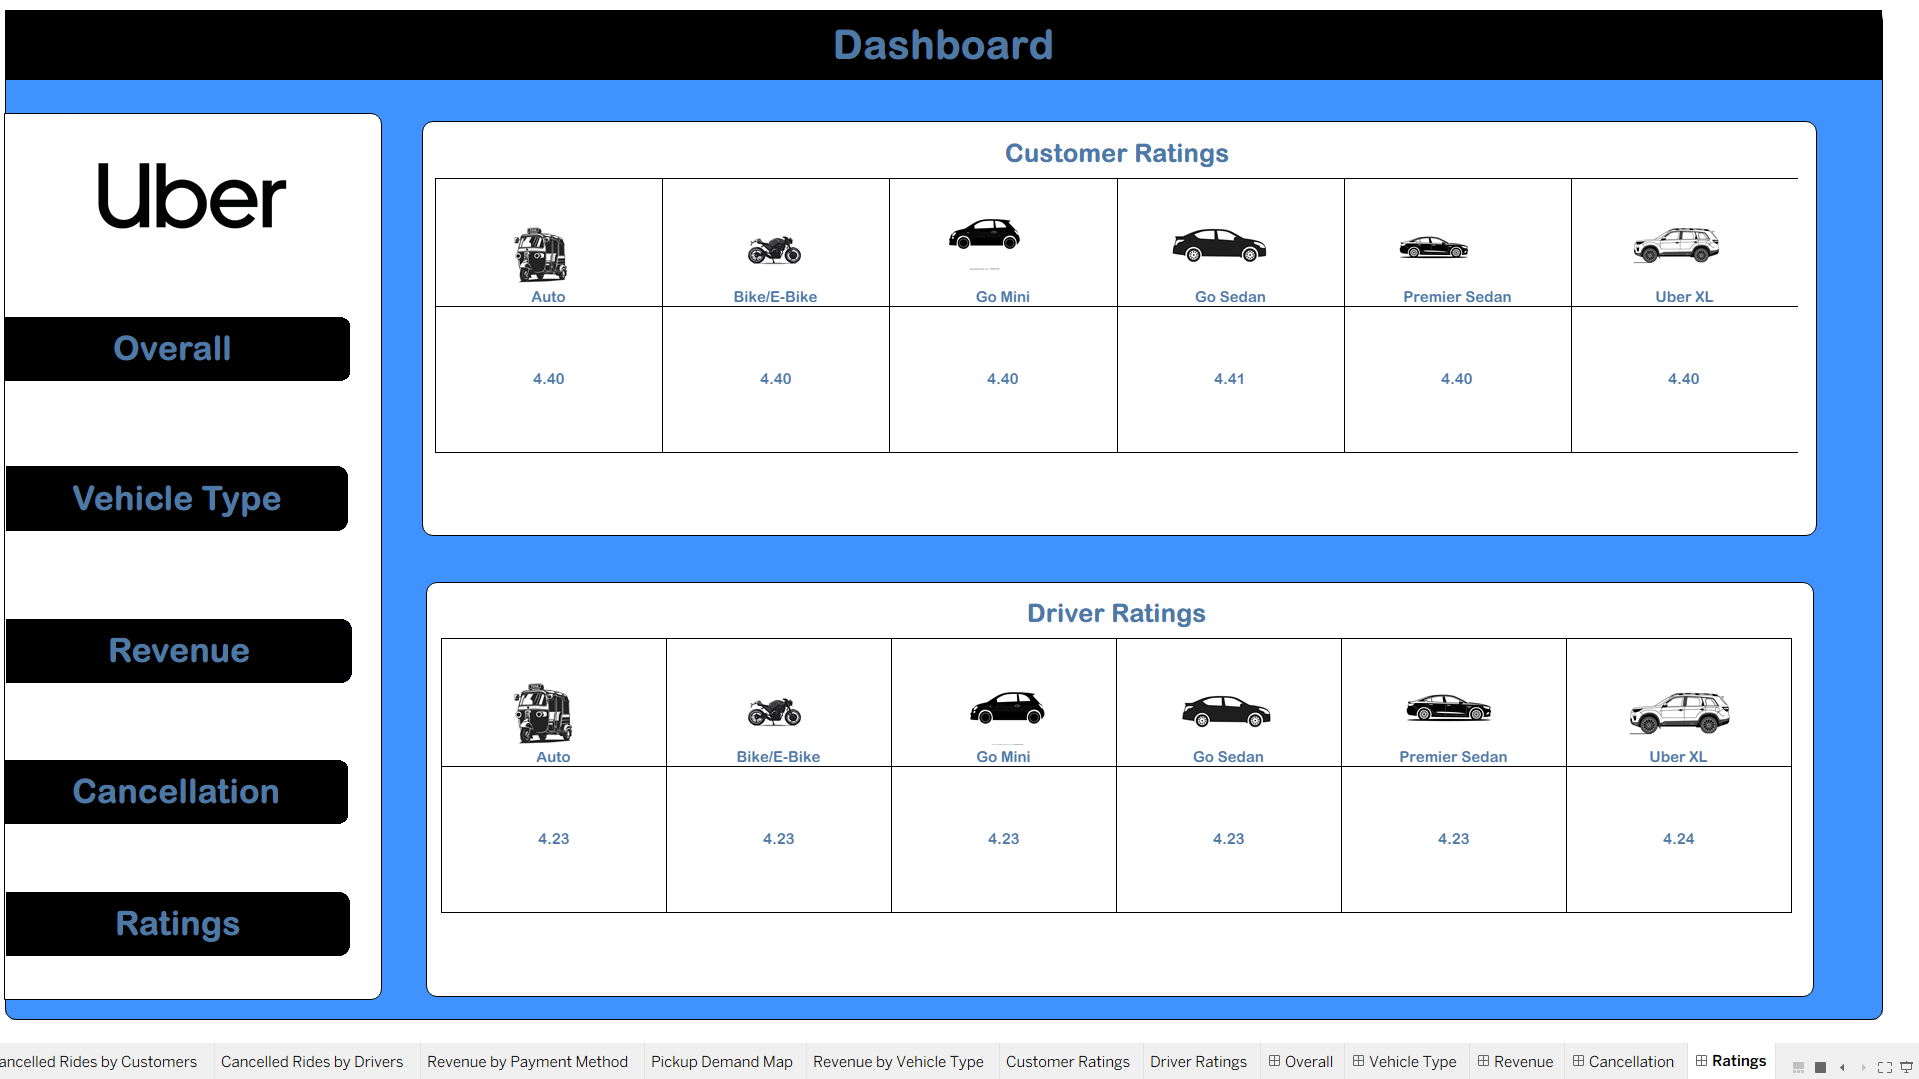

Layout of this report page (visuals, bound fields, positions):
{"tool":"tableau","page":{"name":"Ratings","canvas":[1000,1000],"units":"permille","ordinal":2},"visuals":[{"type":"text","box":[2.4,9.4,977.7,67]},{"type":"blank","box":[2.3,108.1,196.8,850.8]},{"type":"image","param":"Image/download.png","box":[2.3,109.3,196.2,156.3]},{"type":"blank","box":[219.7,116.3,726.6,398.4]},{"type":"worksheet","title":"Customer Ratings","mark":"Automatic","cols":["Vehicle Group"],"box":[226.3,128.1,710.3,374.9]},{"type":"image","param":"Image/UberXL.png","box":[835.2,192.7,76.6,90.5]},{"type":"image","param":"Image/Bike.png","box":[365.7,195.1,76.6,90.5]},{"type":"image","param":"Image/Go Mini.jpg","box":[479.2,196.2,76.6,90.5]},{"type":"image","param":"Image/Auto.jpg","box":[246.2,199.8,76.6,90.5]},{"type":"image","param":"Image/Premiem Sudien.jpg","box":[723,203.3,76.6,90.5]},{"type":"image","param":"Image/Go Sedan.png","box":[602.3,204.5,76.6,90.5]},{"type":"dashboard-object","box":[2.3,304.4,180.4,61.1]},{"type":"dashboard-object","box":[2.9,446.5,178.1,62.3]},{"type":"blank","box":[222.1,558.2,723,398.4]},{"type":"worksheet","title":"Driver Ratings","mark":"Automatic","cols":["Vehicle Group"],"box":[229.9,569.9,703.7,377.2]},{"type":"dashboard-object","box":[2.9,593.4,180.4,61.1]},{"type":"image","param":"Image/UberXL.png","box":[837.1,639.2,76.6,90.5]},{"type":"image","param":"Image/Premiem Sudien.jpg","box":[720.6,640.4,76.6,90.5]},{"type":"image","param":"Image/Go Mini.jpg","box":[481,641.6,76.6,90.5]},{"type":"image","param":"Image/Go Sedan.png","box":[600.5,645.1,76.6,90.5]},{"type":"image","param":"Image/Auto.jpg","box":[249.2,647.5,76.6,90.5]},{"type":"image","param":"Image/Bike.png","box":[368.1,647.5,76.6,90.5]},{"type":"dashboard-object","box":[2.3,728.6,179.3,61.1]},{"type":"dashboard-object","box":[2.9,855.5,179.3,61.1]}]}

Visuals, with their boxes on the dashboard's canvas, which has no fixed pixel size, in thousandths of its width and height (x1, y1, x2, y2). These are canvas units, not pixel positions in the 1919x1079 screenshot, which may show the page scaled, cropped or inside an application window:
text: box=[2, 9, 980, 76]
blank: box=[2, 108, 199, 959]
image: box=[2, 109, 198, 266]
blank: box=[220, 116, 946, 515]
"Customer Ratings" worksheet: box=[226, 128, 937, 503]
image: box=[835, 193, 912, 283]
image: box=[366, 195, 442, 286]
image: box=[479, 196, 556, 287]
image: box=[246, 200, 323, 290]
image: box=[723, 203, 800, 294]
image: box=[602, 204, 679, 295]
dashboard-object: box=[2, 304, 183, 366]
dashboard-object: box=[3, 446, 181, 509]
blank: box=[222, 558, 945, 957]
"Driver Ratings" worksheet: box=[230, 570, 934, 947]
dashboard-object: box=[3, 593, 183, 654]
image: box=[837, 639, 914, 730]
image: box=[721, 640, 797, 731]
image: box=[481, 642, 558, 732]
image: box=[600, 645, 677, 736]
image: box=[249, 648, 326, 738]
image: box=[368, 648, 445, 738]
dashboard-object: box=[2, 729, 182, 790]
dashboard-object: box=[3, 856, 182, 917]
